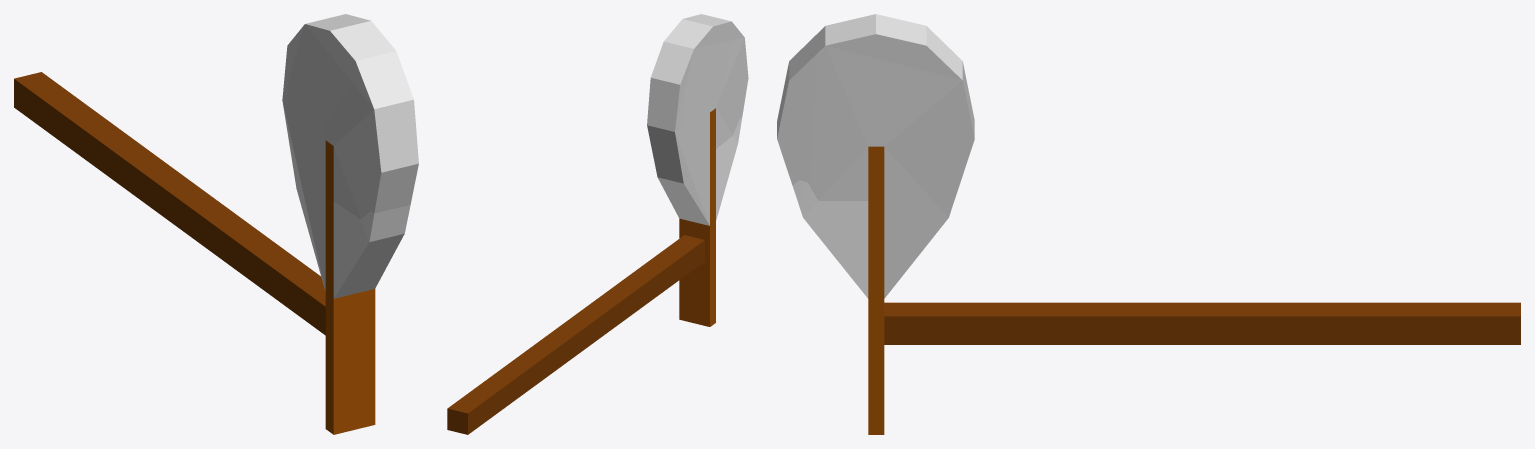
File: piano_hammer.fbx
3 views of the same model, side by side, from view 1: azimuth 30°, elevation 25°; view 2: azimuth 150°, elevation 25°; view 3: azimuth 270°, elevation 25° (orthographic). The views are drawn at different scales.
Parts seen in each view (by area): view 1: hammer; view 2: hammer; view 3: hammer.
Boxes of the visible parts, x1=… form: hammer: x1=14, y1=14, x2=418, y2=434; hammer: x1=447, y1=14, x2=748, y2=434; hammer: x1=777, y1=14, x2=1520, y2=434.
Size of the model in its own units: 30 by 278 by 467.
